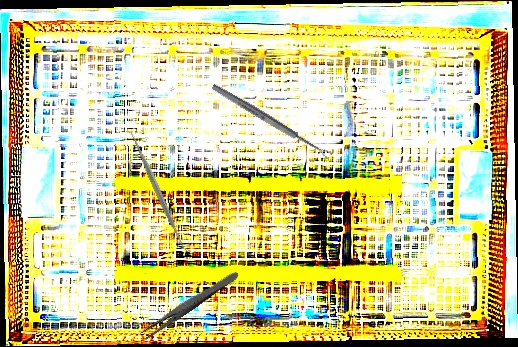Dressing Forceps: (137, 267, 241, 343)
Spatula Surgical: (123, 125, 194, 258)
Surgical Spoon: (210, 82, 333, 161)
